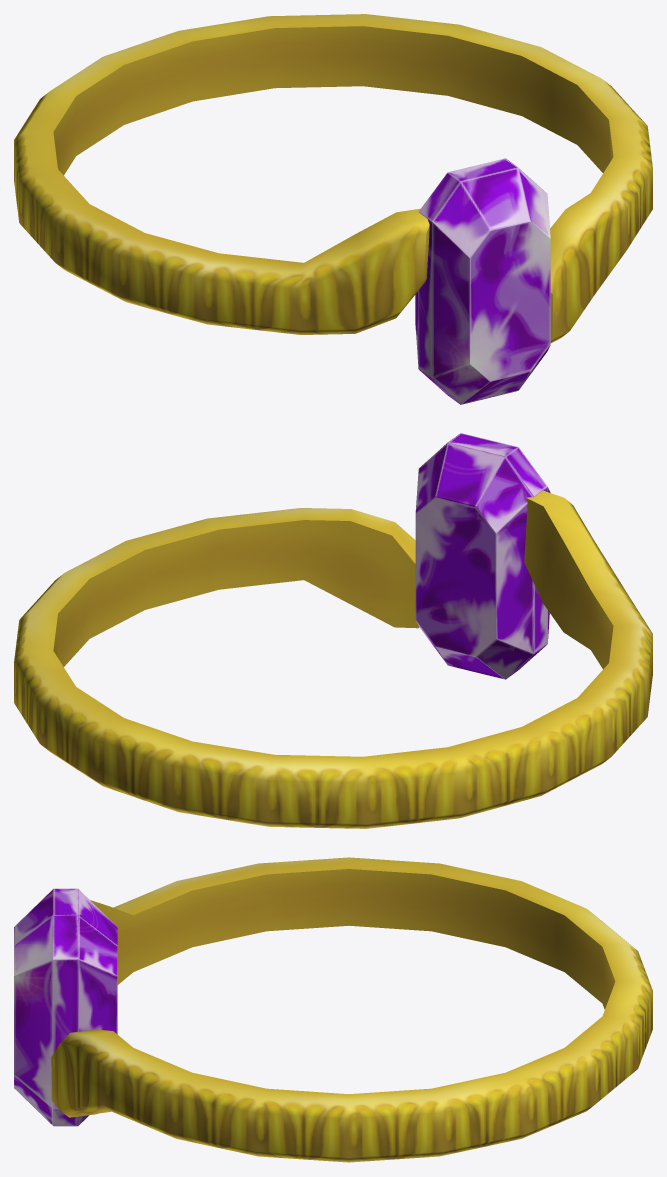
Rendered from ring_gold_02.fbx.
3 views of the same model, one above another, from view 1: azimuth 30°, elevation 25°; view 2: azimuth 150°, elevation 25°; view 3: azimuth 270°, elevation 25° (orthographic). The views are drawn at different scales.
Visible parts, largest first — view 1: ring_gold_02; view 2: ring_gold_02; view 3: ring_gold_02.
Boxes of the visible parts, x1=… form: ring_gold_02: x1=14, y1=14, x2=652, y2=404; ring_gold_02: x1=14, y1=433, x2=652, y2=828; ring_gold_02: x1=14, y1=857, x2=652, y2=1162.
Bounding box in the file's own units: 2.04 × 0.783 × 2.15.
